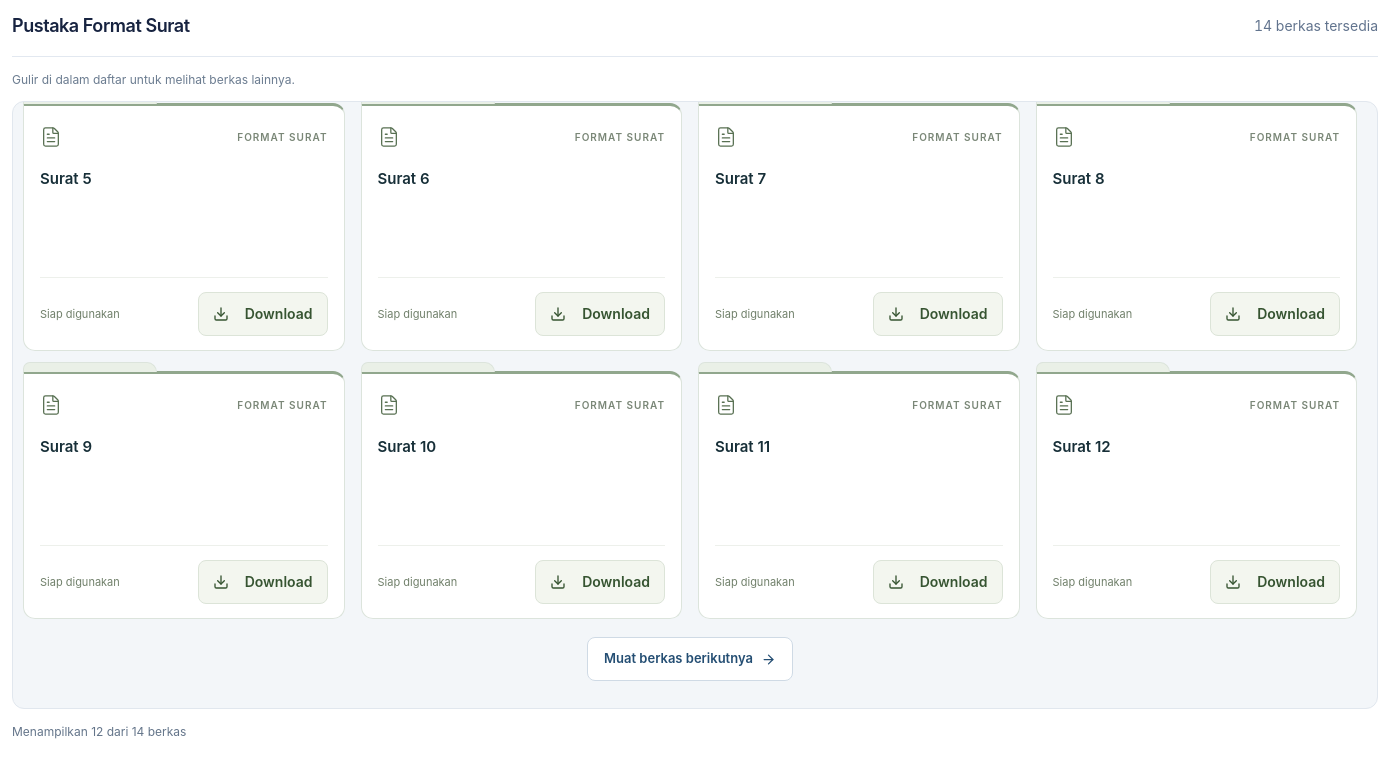
Scenario: koleksi berkas bergulir › menambah halaman berikutnya tanpa menduplikasi atau membuang berkas sebelumnya
(page scrolled)
Click the button "Muat berkas berikutnya" at [690, 659], box top-left (587, 637), bottom-right (793, 681)
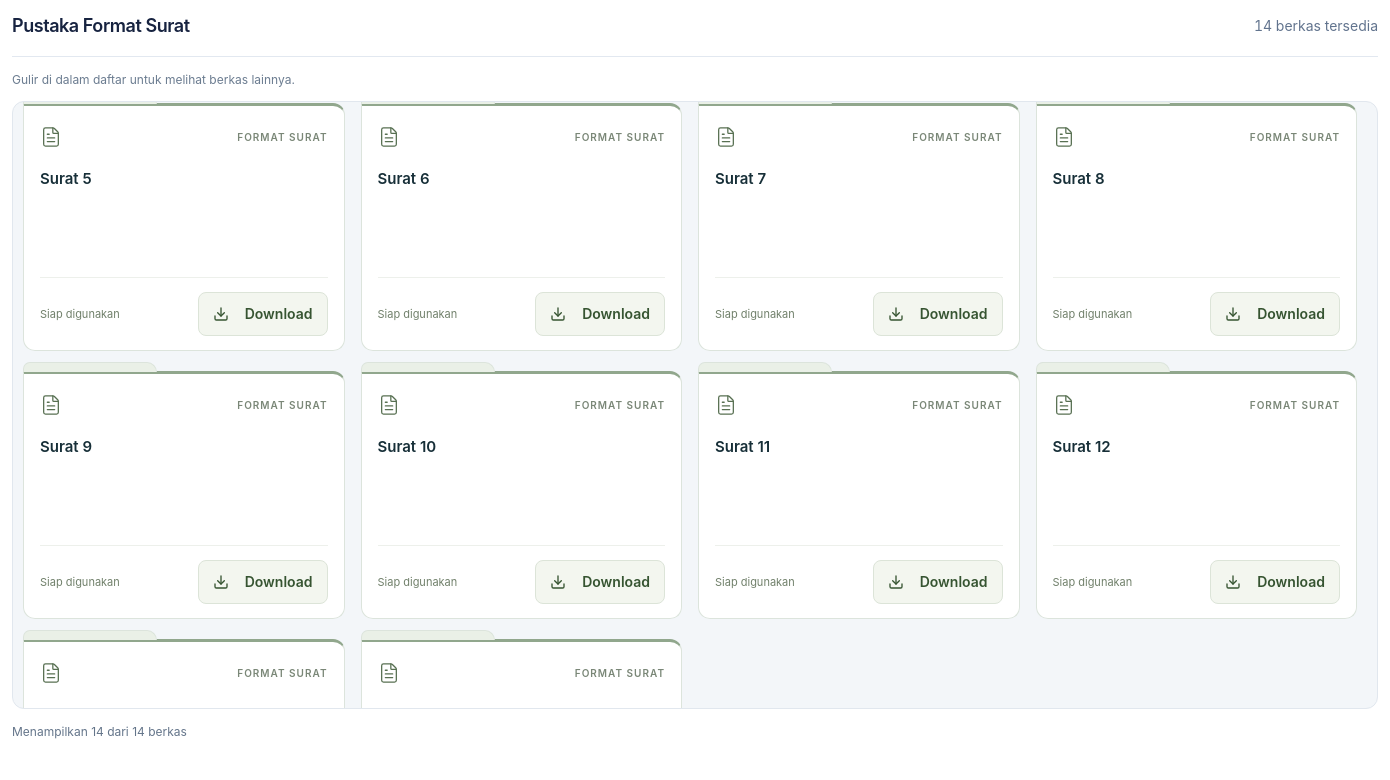
Check: the text "Menampilkan 14 dari 14 berkas" is shown, box top-left (12, 723), bottom-right (187, 741)
Check: the button "Muat berkas berikutnya" is gone
